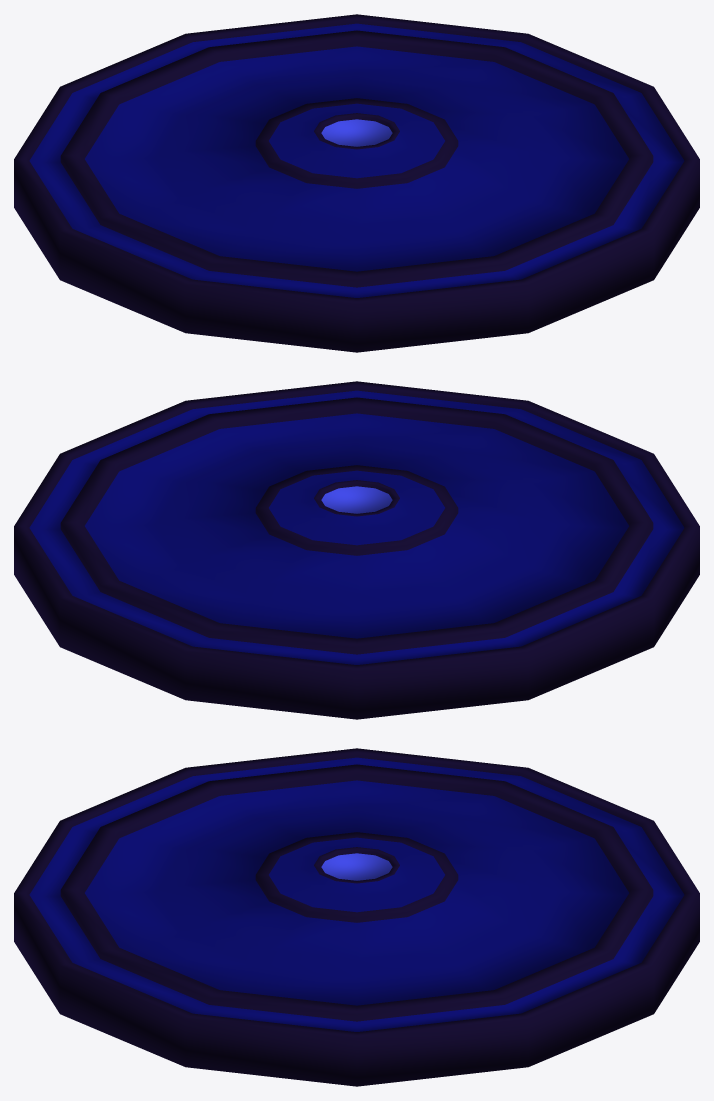
The model's file is Totem_01.fbx.
3 views of the same model, one above another, from view 1: azimuth 30°, elevation 25°; view 2: azimuth 150°, elevation 25°; view 3: azimuth 270°, elevation 25° (orthographic).
Visible parts, largest first — view 1: Totem_Base; view 2: Totem_Base; view 3: Totem_Base.
Boxes of the visible parts, box(x1,y1,x2,y2) form: Totem_Base: box(14, 14, 699, 352); Totem_Base: box(14, 381, 699, 719); Totem_Base: box(14, 748, 699, 1086).
Bounding box in the file's own units: 218 × 26.79 × 218.
